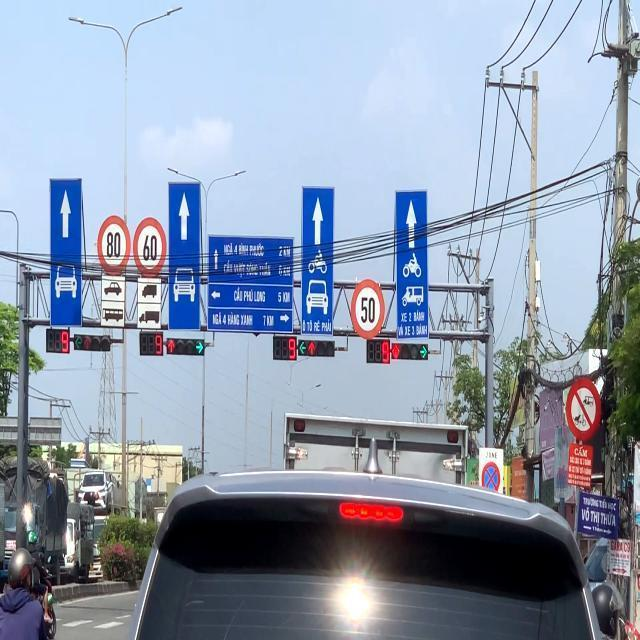127-toc-do-toi-da-50: (349, 279, 389, 338)
127-toc-do-toi-da-60: (134, 217, 168, 276)
127-toc-do-toi-da-80: (96, 215, 132, 273)
130-cam-dung-va-do-xe: (481, 462, 500, 498)
